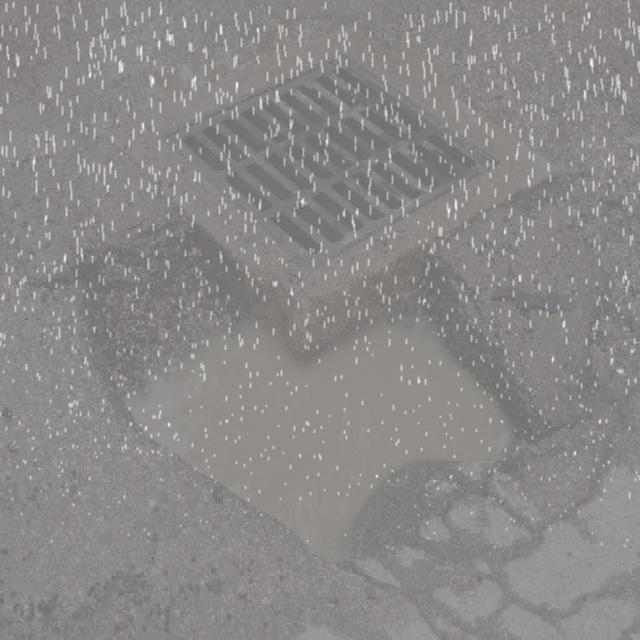Pothole: (44, 184, 576, 599)
